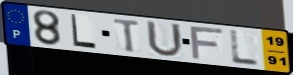8: (31, 9, 62, 47)
F: (188, 26, 226, 61)
L: (229, 28, 262, 67), (69, 13, 98, 51)
T: (112, 17, 143, 53)
U: (145, 19, 186, 59)
